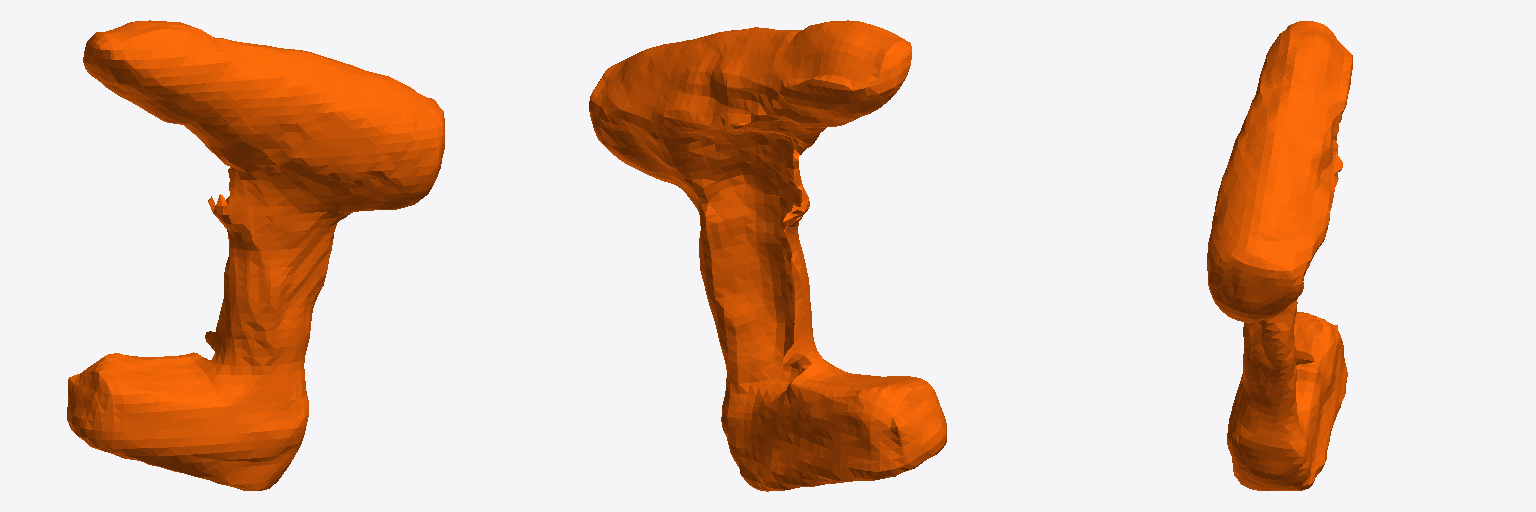
URDF robot description (28ab63ba1):
<?xml version="1.0" ?>
<robot name="28ab63ba1">
   <material name="obj_color">
      <color rgba="1.0 0.423529411765 0.0392156862745 1.0"/>
   </material>
   <link name="top">
      <inertial>
         <origin rpy="0.0009107239342081507 0.002927977832596725 0.003678648150457855" xyz="-0.0004638056563241982 -0.001100746571075121 0.007407425242591532"/>
         <mass value="0.5649981109269806"/>
         <inertia ixx="0.0028261802855354" ixy="0.0001509590595396766" ixz="-0.0005026876187941278" iyy="0.003648094965133622" iyz="-5.517554735940884e-06" izz="0.001043074666593706"/>
      </inertial>
      <visual>
         <origin rpy="0 0 0" xyz="0 0 0"/>
         <geometry>
            <mesh filename="top_watertight_tiny.stl" scale="1 1 1"/>
         </geometry>
         <material name="obj_color"/>
      </visual>
      <collision>
         <origin rpy="0 0 0" xyz="0 0 0"/>
         <geometry>
            <mesh filename="top_watertight_tiny.obj" scale="1 1 1"/>
         </geometry>
      </collision>
   </link>
   <link name="bottom">
      <inertial>
         <origin rpy="1.633333333199431e-08 1.633333333199431e-08 1.633333333362855e-08" xyz="0.3464080000000008 0.3464080000000008 0.3464080000000008"/>
         <mass value="0.0009800000000000017"/>
         <inertia ixx="1.633333333253906e-08" ixy="5.447480642029219e-19" ixz="5.447480642029219e-19" iyy="1.633333333253906e-08" iyz="5.447480642029219e-19" izz="1.633333333253906e-08"/>
      </inertial>
      <visual>
         <origin rpy="0 0 0" xyz="0 0 0"/>
         <geometry>
            <mesh filename="bottom_watertight_tiny.stl" scale="1 1 1"/>
         </geometry>
         <material name="obj_color"/>
      </visual>
   </link>
   <joint name="rotation" type="revolute">
      <origin xyz="0 0 0"/>
      <axis xyz="0 0 -1"/>
      <parent link="bottom"/>
      <child link="top"/>
      <dynamics damping="1.0" friction="1.0"/>
      <limit effort="0.1" velocity="0.1" lower="0" upper="0.001"/>
   </joint>
</robot>

--- Render facts (derived) ---
3 views of the same robot in one strip: view 1: azimuth 30°, elevation 25°; view 2: azimuth 150°, elevation 25°; view 3: azimuth 270°, elevation 25° (orthographic).
Model 28ab63ba1 with 2 links and 1 joints (1 revolute), rooted at bottom, posed every joint at zero.
Links seen in each view (by area): view 1: top; view 2: top; view 3: top.
Link boxes in pixels (left/top/right/bottom): top: left=67, top=20, right=444, bottom=490; top: left=589, top=20, right=946, bottom=491; top: left=1207, top=21, right=1352, bottom=490.
Bounding box of the posed robot: 0.1789 × 0.0746 × 0.2324 m (x, y, z).
Meshes: 2 distinct files referenced, 1 mesh visuals loaded (1 binary STL); not drawn: 1 (reference not matched to a file when rendering).